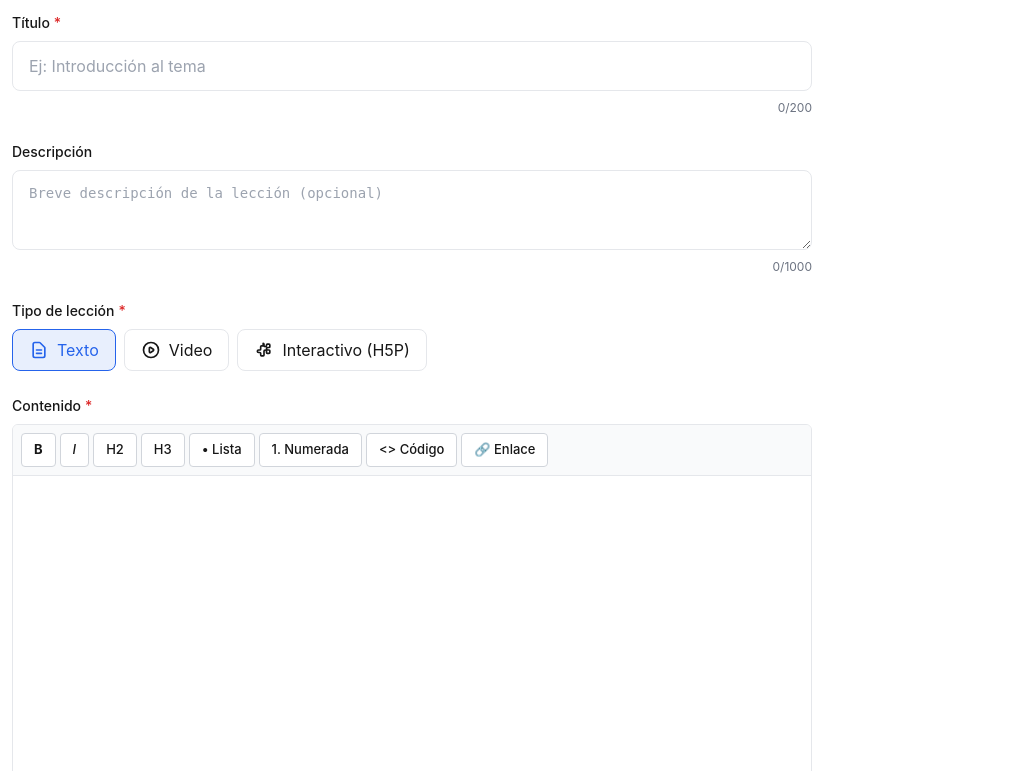
Test: LeccionForm › tipo INTERACTIVO (H5P) › debería mostrar error si la URL H5P no pertenece a un dominio permitido
Click the button "Interactivo (H5P)": (332, 350) x1=237 y1=329 x2=427 y2=371
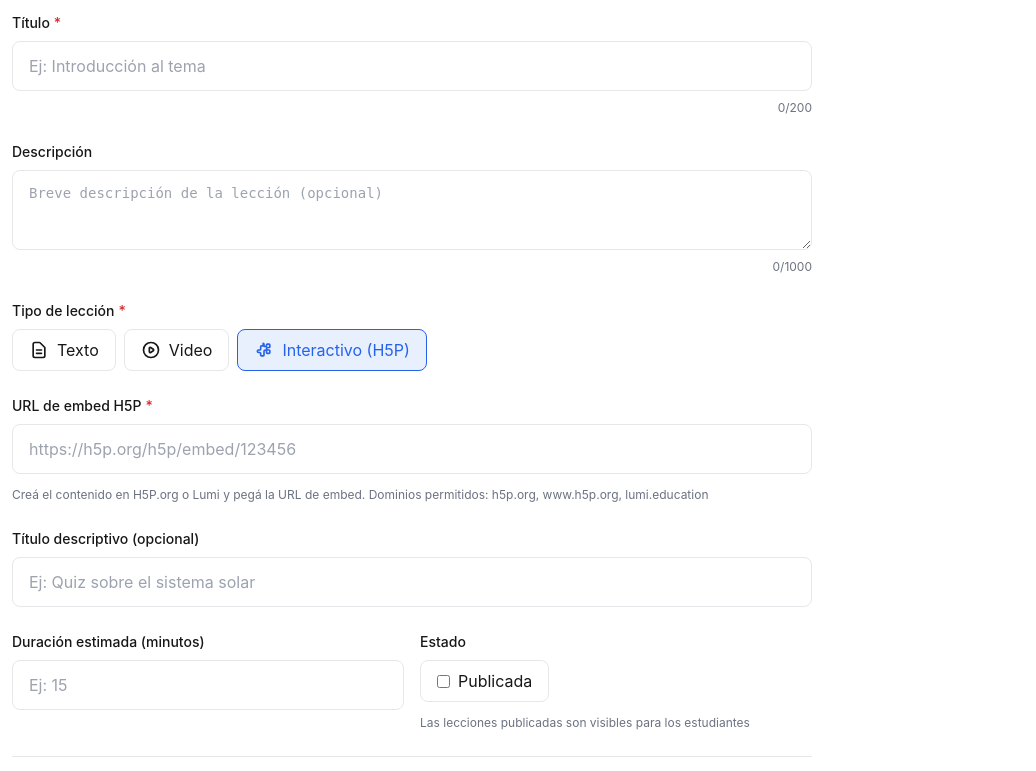
In the field labelled "URL de embed H5P*": (412, 449) x1=12 y1=424 x2=812 y2=474, type "https://malicious-site.com/embed/123"
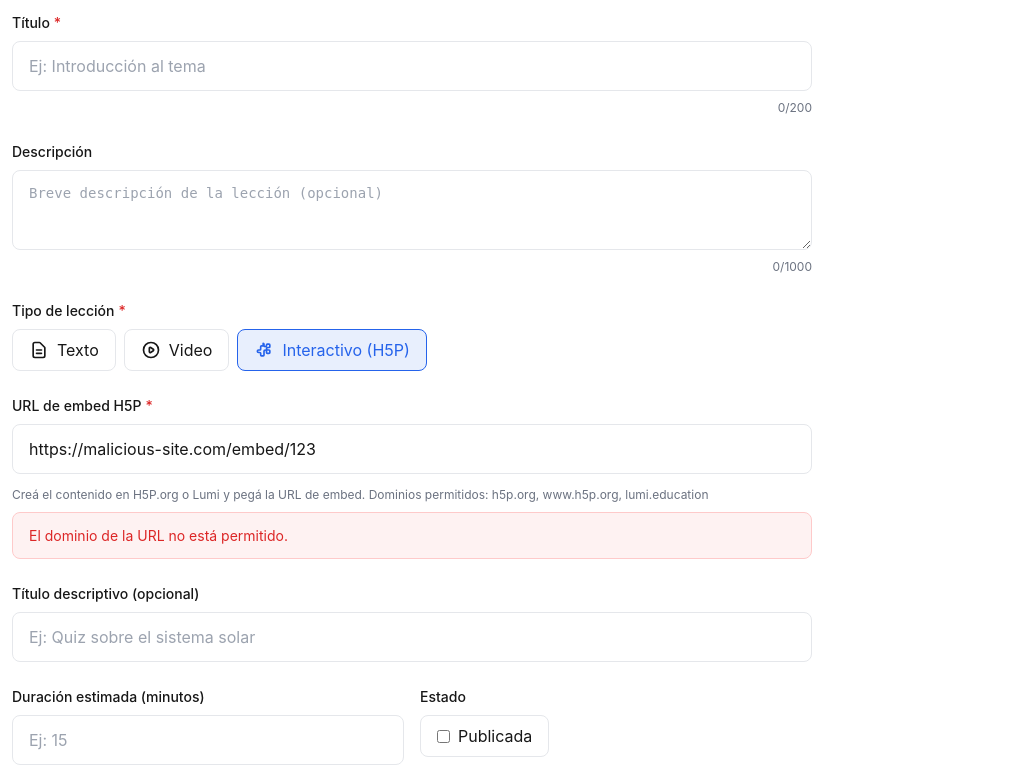
Check: the text "El dominio de la URL no está permitido." is shown, box x1=12 y1=512 x2=812 y2=559
